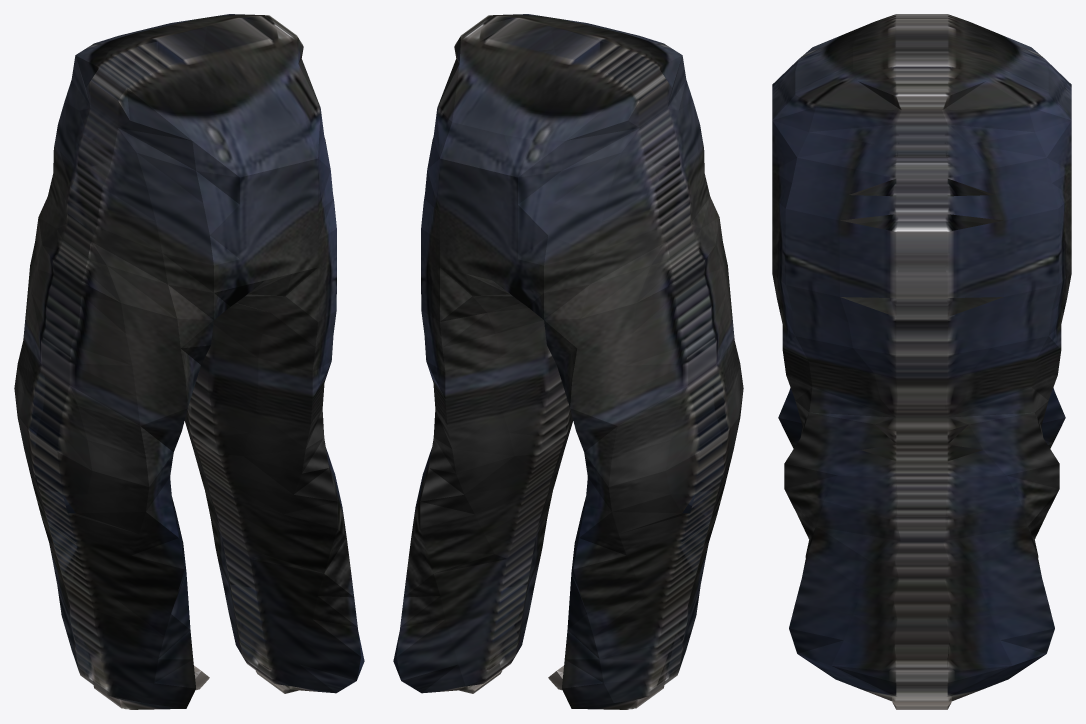
The model's file is scorpion-vantage-riding-trouser-034.glb.
The picture shows the model from 3 angles, left to right: view 1: azimuth 30°, elevation 25°; view 2: azimuth 150°, elevation 25°; view 3: azimuth 270°, elevation 25°; orthographic projection. The views are drawn at different scales.
Parts seen in each view (by area): view 1: world; view 2: world; view 3: world.
Boxes of the visible parts, left/top/right/bottom form: world: left=14, top=14, right=364, bottom=709; world: left=393, top=14, right=743, bottom=709; world: left=772, top=14, right=1071, bottom=709.
Size of the model in its own units: 0.4656 by 1 by 0.44.
Materials: 1 (1 with a texture image).
